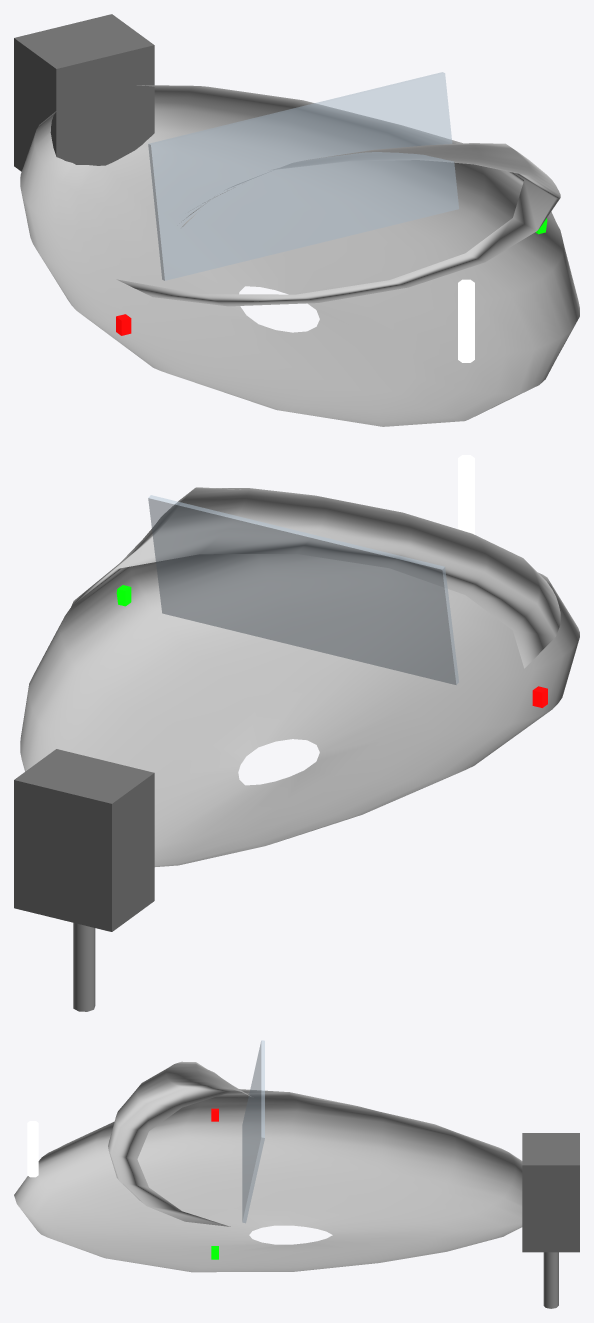
The model's file is boat.glb.
3 views of the same model, one above another, from view 1: azimuth 30°, elevation 25°; view 2: azimuth 150°, elevation 25°; view 3: azimuth 270°, elevation 25° (orthographic). The views are drawn at different scales.
Visible parts, largest first — view 1: BoatBody, cabin_windshield, motor, nav_light_bow; view 2: BoatBody, cabin_windshield, motor, motor_shaft, nav_light_bow; view 3: BoatBody, motor, cabin_windshield, motor_shaft, nav_light_bow.
Part boxes in pixels (x1=…): BoatBody: x1=20, y1=85, x2=579, y2=426; cabin_windshield: x1=148, y1=72, x2=458, y2=280; motor: x1=14, y1=14, x2=154, y2=171; nav_light_bow: x1=458, y1=279, x2=474, y2=362; BoatBody: x1=20, y1=487, x2=579, y2=866; cabin_windshield: x1=148, y1=495, x2=458, y2=684; motor: x1=14, y1=749, x2=154, y2=931; motor_shaft: x1=73, y1=923, x2=95, y2=1011; nav_light_bow: x1=458, y1=455, x2=474, y2=534; BoatBody: x1=14, y1=1061, x2=522, y2=1272; motor: x1=522, y1=1133, x2=579, y2=1252; cabin_windshield: x1=242, y1=1040, x2=264, y2=1223; motor_shaft: x1=543, y1=1252, x2=558, y2=1308; nav_light_bow: x1=27, y1=1121, x2=38, y2=1177.
Size of the model in its own units: 1.74 by 1.25 by 2.95.
